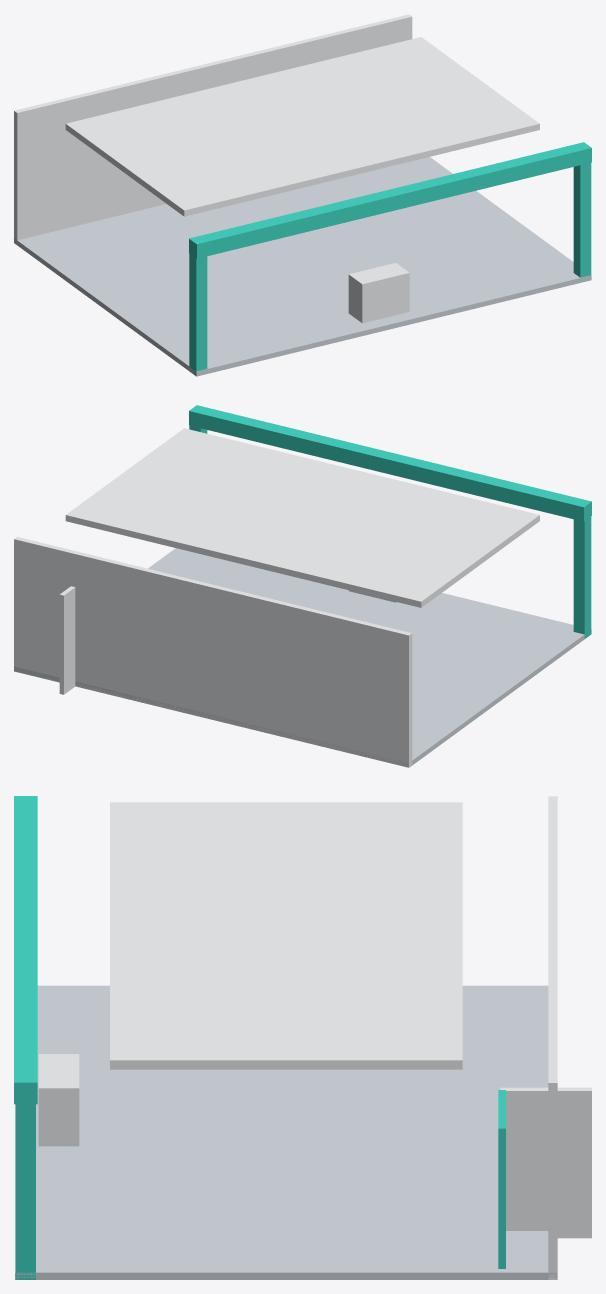
3 views of the same model, one above another, from view 1: azimuth 30°, elevation 25°; view 2: azimuth 150°, elevation 25°; view 3: azimuth 270°, elevation 25° (orthographic). The views are drawn at different scales.
Visible parts, largest first — view 1: Exhibition Booth Concept; view 2: Exhibition Booth Concept; view 3: Exhibition Booth Concept.
Part boxes in pixels (x1,y1,x2,y2): Exhibition Booth Concept: (14, 14, 591, 376); Exhibition Booth Concept: (14, 405, 591, 767); Exhibition Booth Concept: (14, 796, 591, 1279).
Bounding box in the file's own units: 10 × 3.34 × 8.52.
